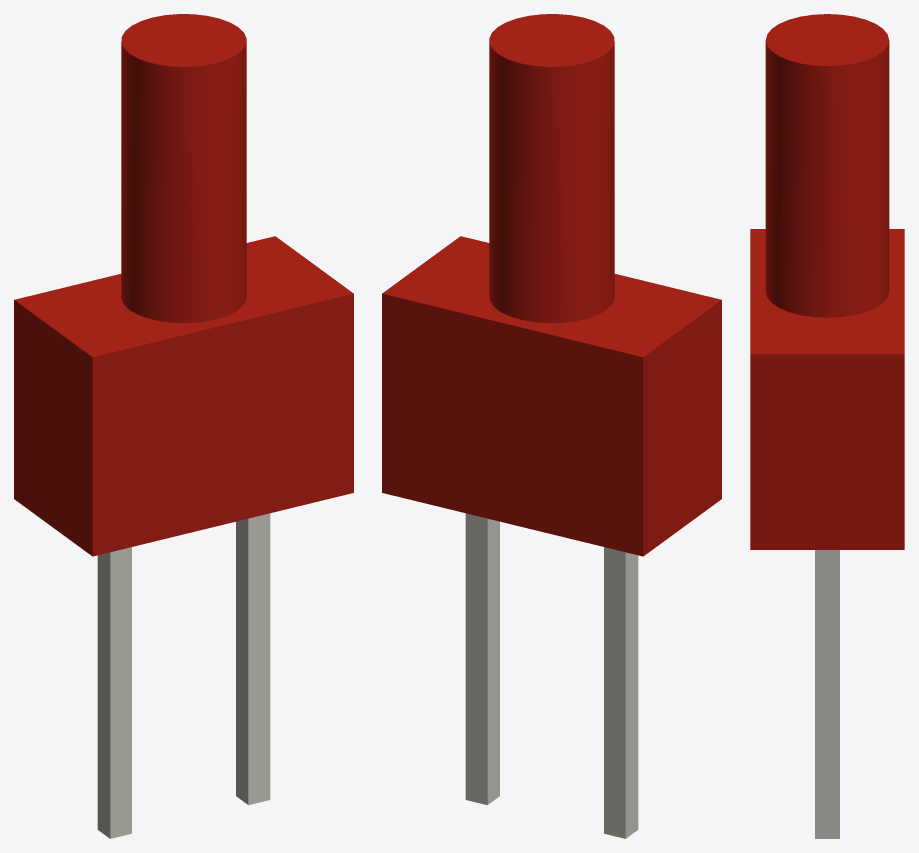
Rendered from kc-led_d2.0mm_w4.8mm_h2.5mm_flattop.glb.
3 views of the same model, side by side, from view 1: azimuth 30°, elevation 25°; view 2: azimuth 150°, elevation 25°; view 3: azimuth 270°, elevation 25° (orthographic).
Parts seen in each view (by area): view 1: 0.4166666666666667_0_0_0, 0.6666666666666666_0.6666666666666666_0.5833333333333334_0.8; view 2: 0.4166666666666667_0_0_0, 0.6666666666666666_0.6666666666666666_0.5833333333333334_0.8; view 3: 0.4166666666666667_0_0_0, 0.6666666666666666_0.6666666666666666_0.5833333333333334_0.8.
Part boxes in pixels (x1,y1,x2,y2): 0.4166666666666667_0_0_0: [14, 14, 353, 556]; 0.6666666666666666_0.6666666666666666_0.5833333333333334_0.8: [97, 513, 270, 838]; 0.4166666666666667_0_0_0: [382, 14, 721, 556]; 0.6666666666666666_0.6666666666666666_0.5833333333333334_0.8: [465, 513, 638, 838]; 0.4166666666666667_0_0_0: [750, 14, 904, 549]; 0.6666666666666666_0.6666666666666666_0.5833333333333334_0.8: [815, 550, 839, 838].
Bounding box in the file's own units: 0.48 × 1.36 × 0.25.
